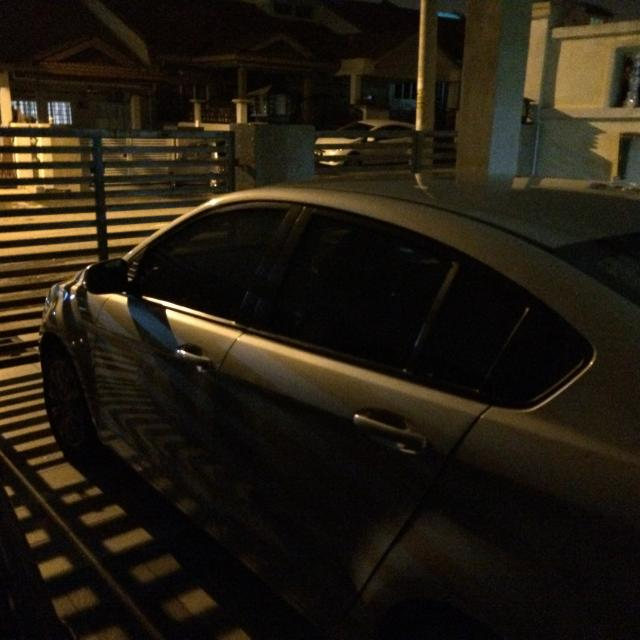Car: (38, 171, 640, 640)
